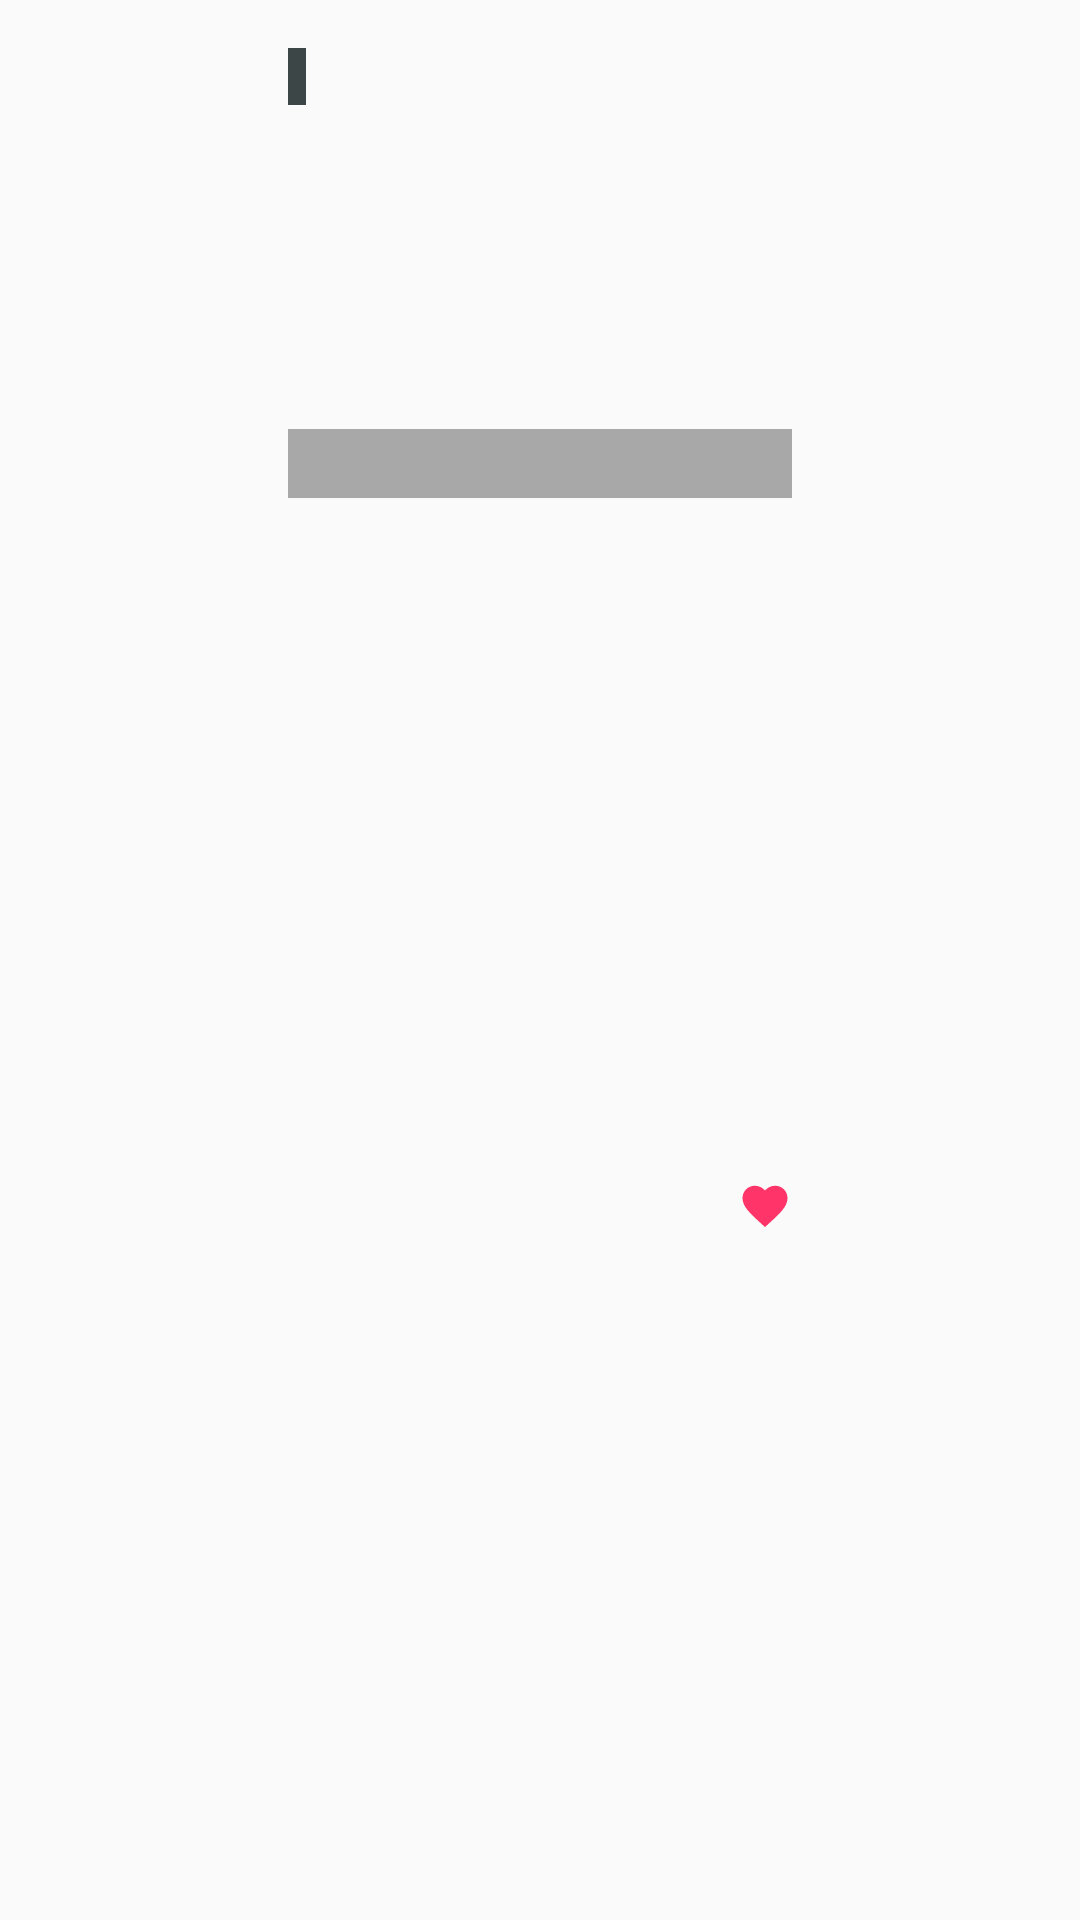

Point at icon controls on the screen. Image size 1080px x 1920px, points as (x=x, y=y).
favorite: (x=765, y=1206)
